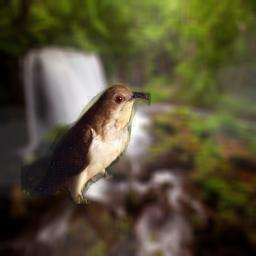Cuckoo: (21, 83, 151, 204)
